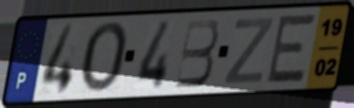4: (39, 22, 76, 98), (133, 19, 171, 92)
B: (173, 16, 221, 90)
E: (263, 12, 319, 87)
O: (79, 20, 132, 96)
Z: (221, 15, 276, 86)
